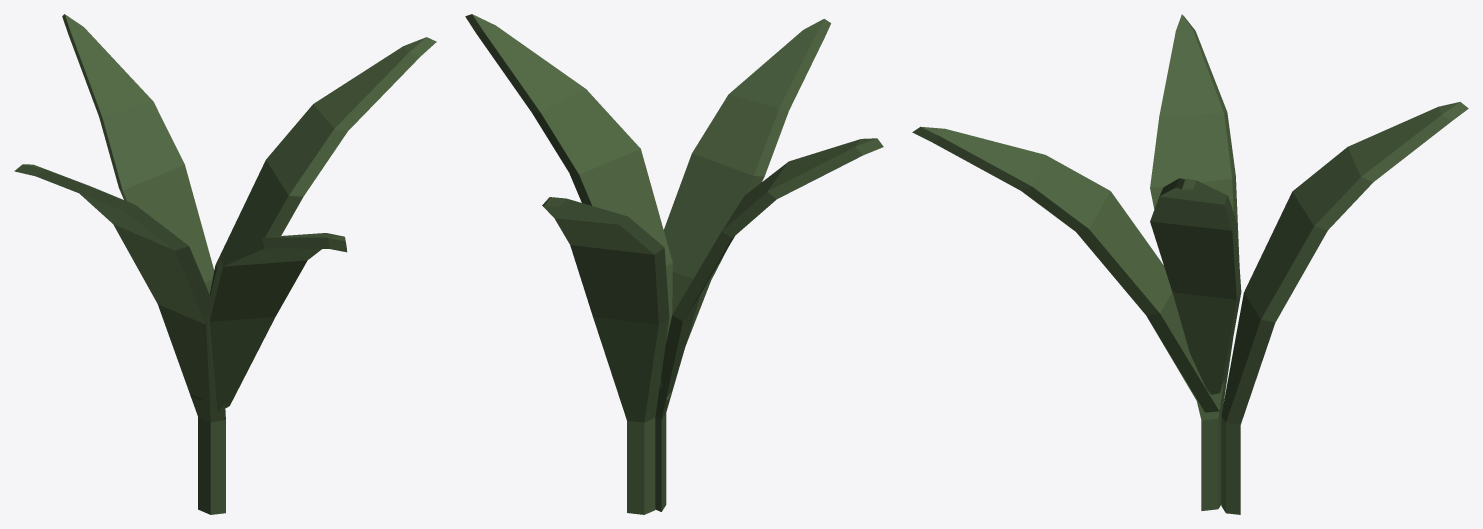
The model's file is palmtree_1.gltf.
The picture shows the model from 3 angles, left to right: view 1: azimuth 30°, elevation 25°; view 2: azimuth 150°, elevation 25°; view 3: azimuth 270°, elevation 25°; orthographic projection. The views are drawn at different scales.
Visible parts, largest first — view 1: palmtree_1; view 2: palmtree_1; view 3: palmtree_1.
Part boxes in pixels (x1=…): palmtree_1: x1=14, y1=14, x2=436, y2=514; palmtree_1: x1=465, y1=14, x2=883, y2=514; palmtree_1: x1=912, y1=14, x2=1468, y2=514.
Size of the model in its own units: 0.3551 by 0.3502 by 0.4184.
1 material, 1 textured.
